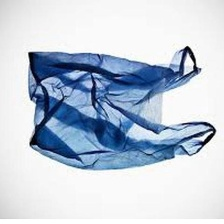plastic_bag: (20, 43, 220, 173)
